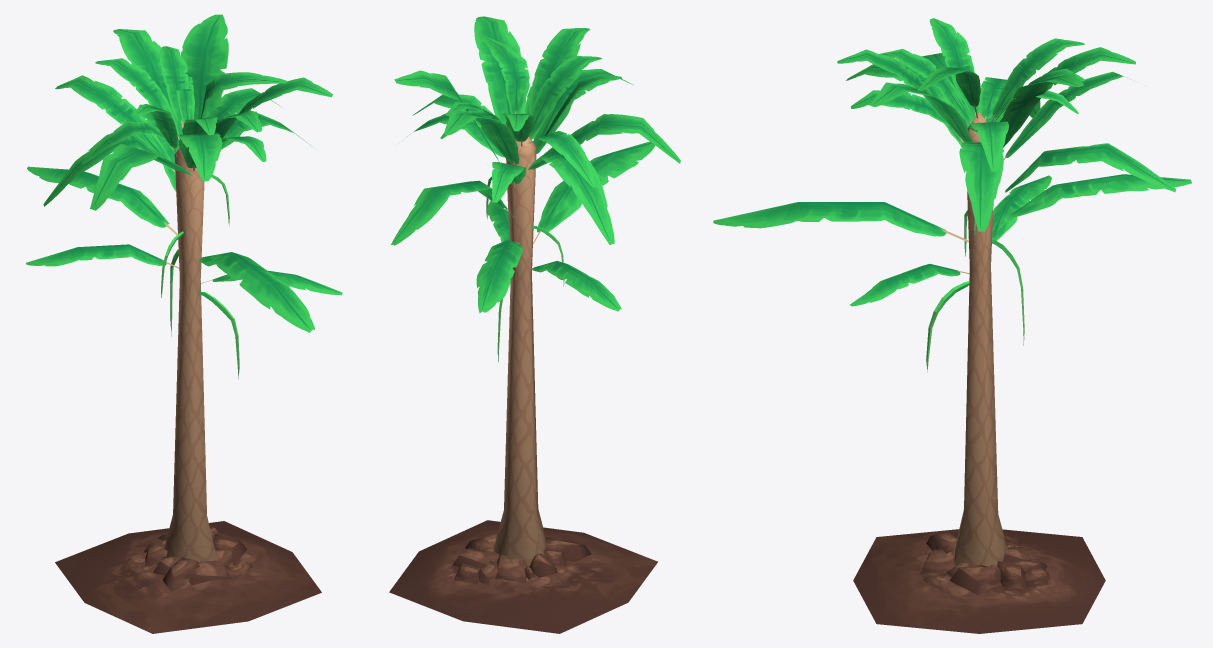
Rendered from BananaPlant.fbx.
3 views of the same model, side by side, from view 1: azimuth 30°, elevation 25°; view 2: azimuth 150°, elevation 25°; view 3: azimuth 270°, elevation 25° (orthographic). The views are drawn at different scales.
Visible parts, largest first — view 1: BananaLeaves, Dirtplane, BananaTree; view 2: BananaLeaves, Dirtplane, BananaTree; view 3: BananaLeaves, Dirtplane, BananaTree.
Part boxes in pixels (x1,y1,x2,y2): BananaLeaves: (26,14,342,332); Dirtplane: (55,521,321,633); BananaTree: (161,147,239,561); BananaLeaves: (391,16,680,313); Dirtplane: (389,520,657,633); BananaTree: (486,136,564,566); BananaLeaves: (713,18,1191,306); Dirtplane: (853,529,1105,633); BananaTree: (926,112,1024,566).
Size of the model in its own units: 241 by 442 by 362.
